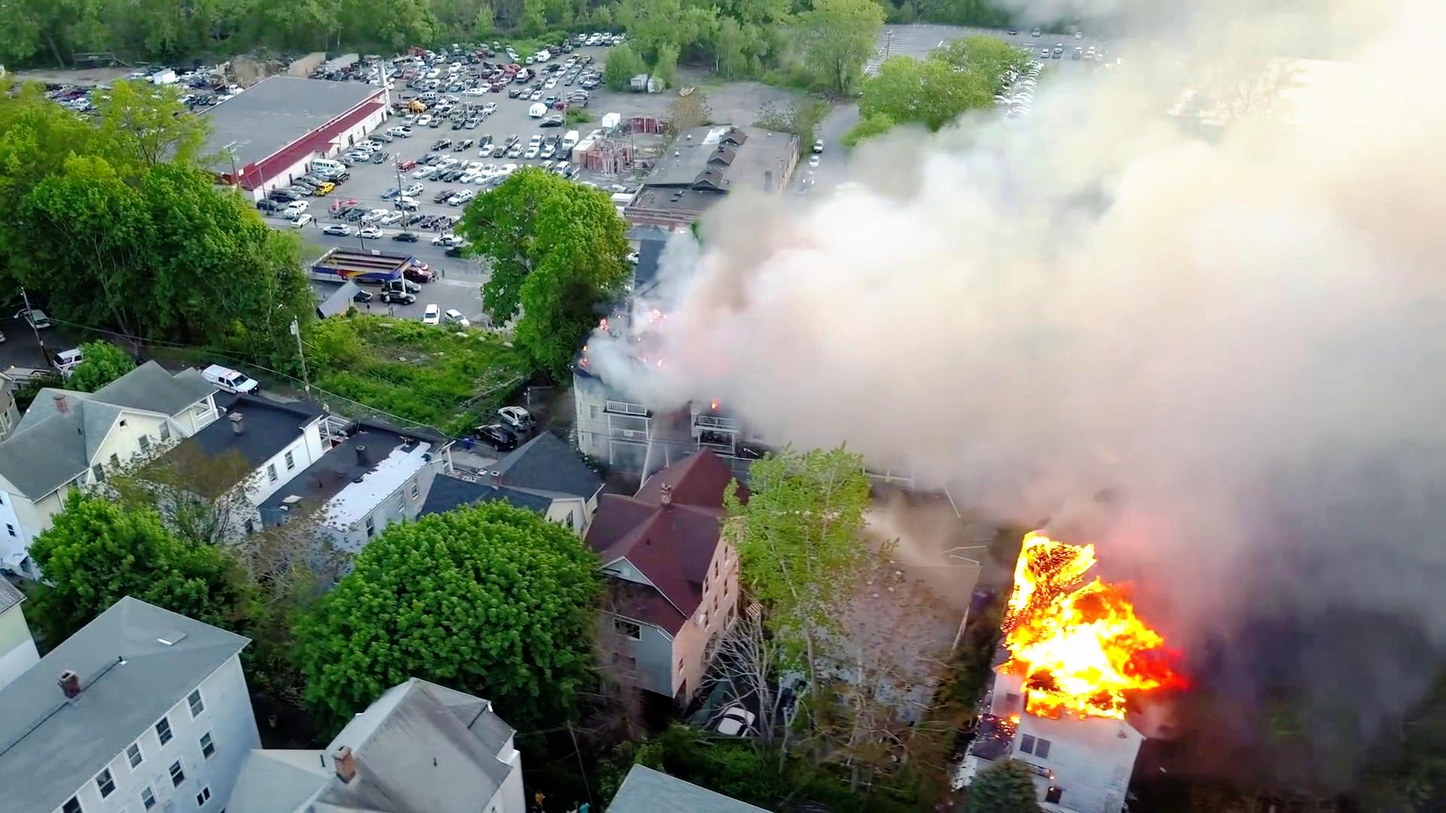fire: (1004, 517, 1171, 721)
smoke: (691, 253, 1446, 470)
